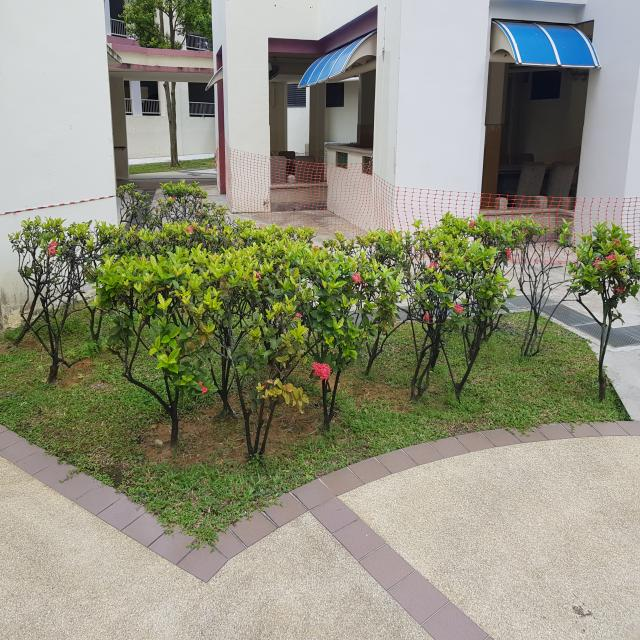Chinese-Ixora: (311, 362, 332, 381), (45, 241, 58, 257), (592, 258, 604, 270), (351, 271, 362, 284), (198, 380, 208, 394), (428, 262, 439, 272), (186, 340, 197, 350), (605, 253, 617, 262), (252, 269, 261, 280), (614, 286, 626, 294), (454, 304, 464, 313), (423, 312, 432, 322), (184, 226, 194, 234), (505, 249, 511, 261), (468, 222, 478, 228), (295, 312, 303, 318), (285, 384, 290, 392), (262, 381, 268, 387), (314, 245, 320, 249), (243, 276, 247, 280), (197, 212, 201, 215), (171, 197, 175, 200), (198, 198, 202, 201)
